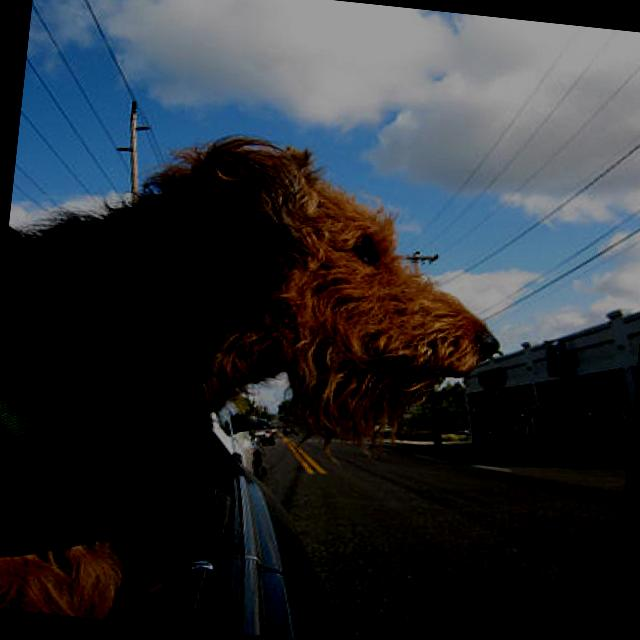Vehicle: (0, 165, 391, 640)
